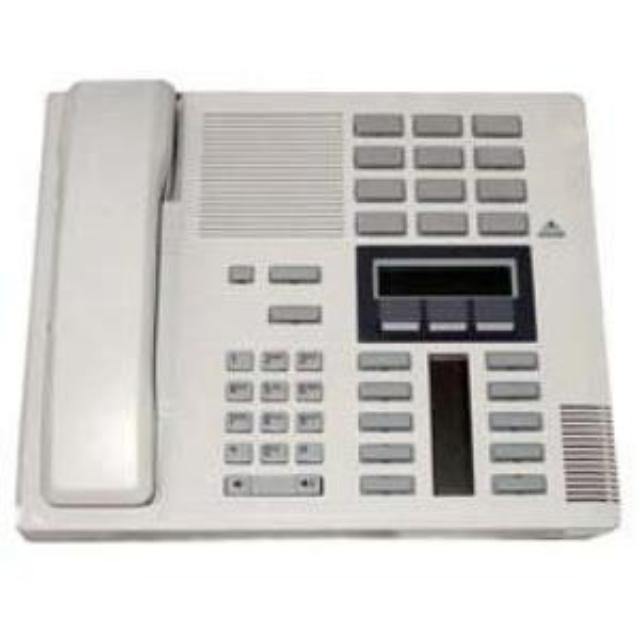Telephone-Set: (26, 74, 624, 546)
